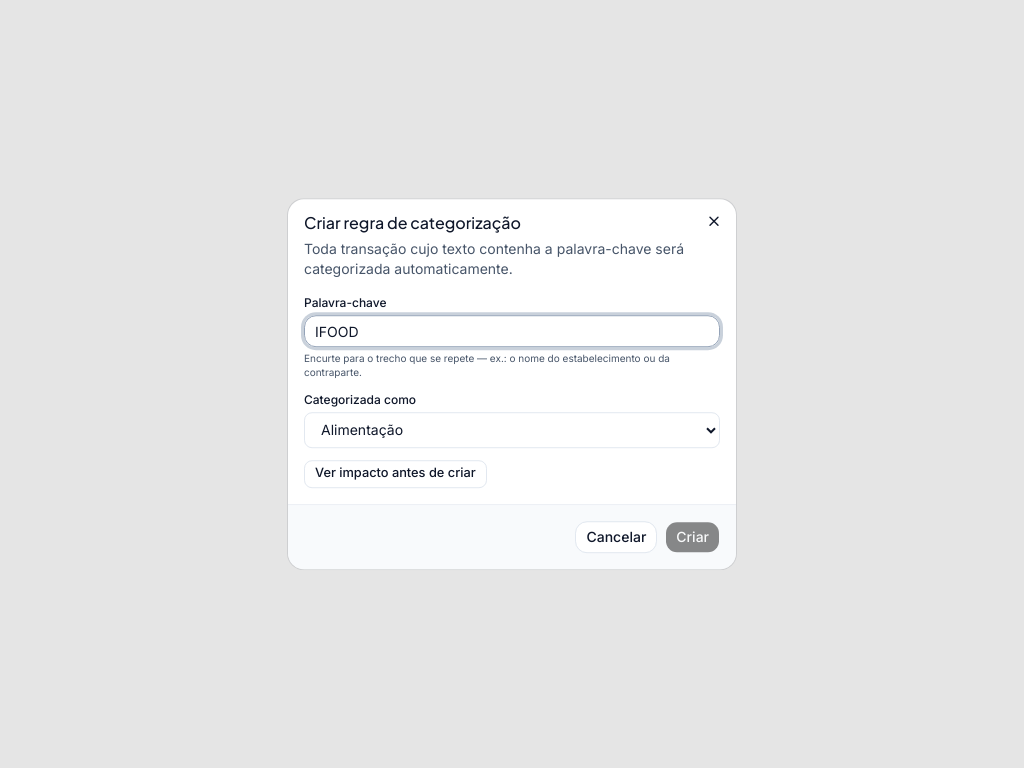
CreateRuleDialog · preview + create flow (A12 P4) › destaca contagem de meses fechados visualmente
Click the button with test id "rule-preview-button" at coordinates (395, 474), box [304,460,487,488]
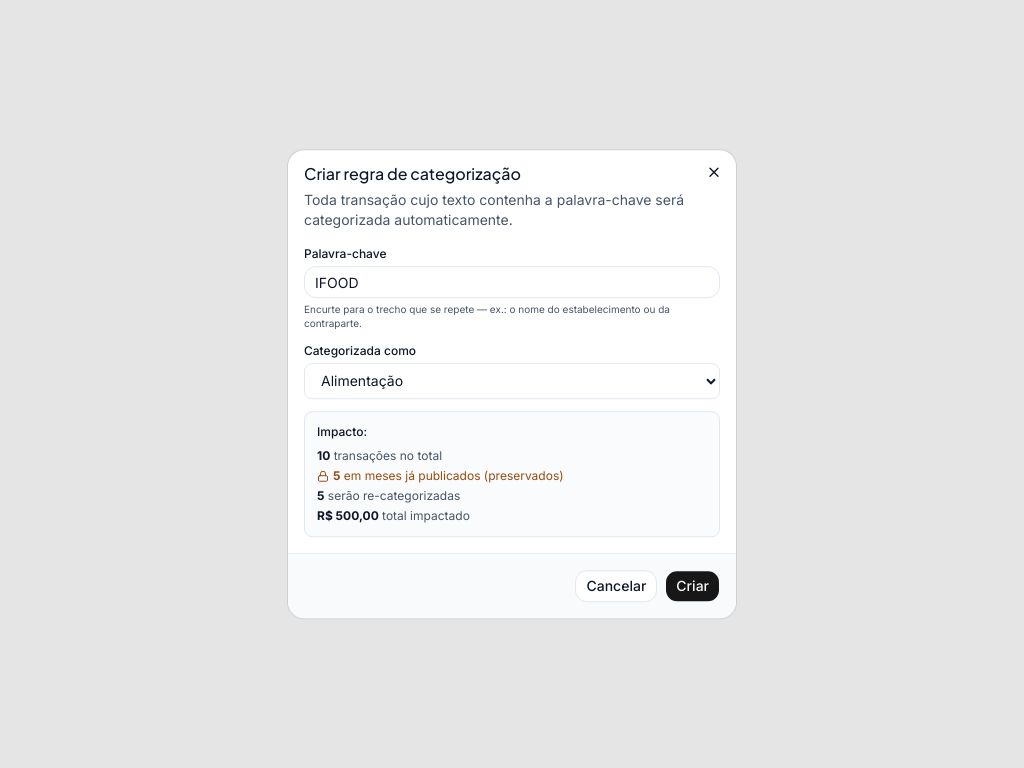
Result: the text "5 em meses já publicados (preservados)" is shown at [333,468,564,484]
